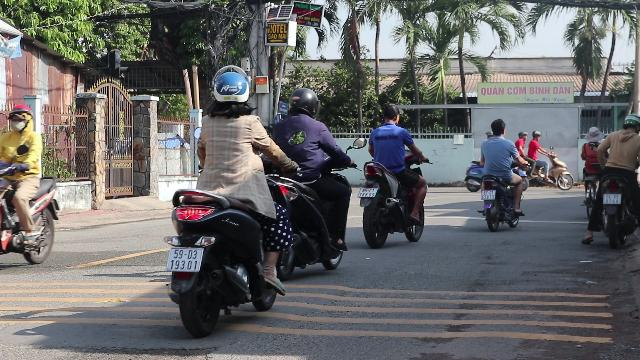helmet: (208, 67, 252, 117), (286, 86, 320, 118), (6, 103, 34, 132), (620, 114, 640, 132)
licenseplate: (168, 248, 202, 272), (603, 194, 621, 204), (358, 188, 376, 196), (481, 190, 495, 200)
motorcyclist: (161, 67, 291, 333), (265, 84, 353, 279), (1, 100, 64, 274), (357, 102, 429, 248), (586, 114, 640, 246), (476, 117, 526, 231)
nohelmet: (379, 102, 401, 126), (488, 118, 506, 137)
